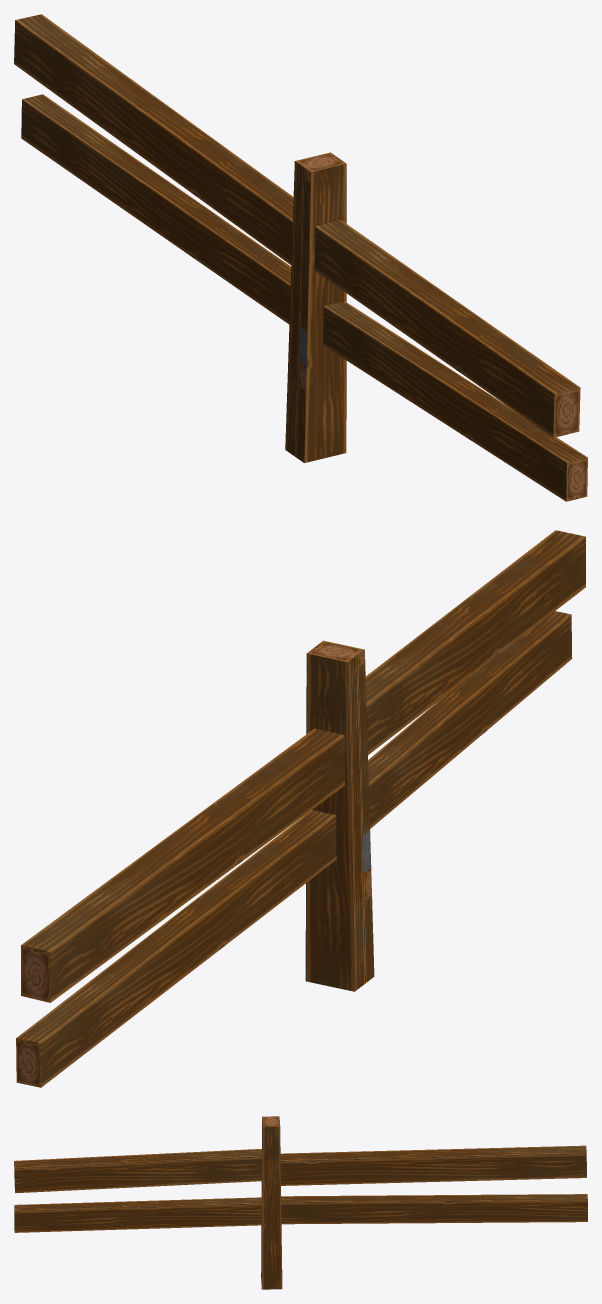
3 renders of one model, top to bottom at view 1: azimuth 30°, elevation 25°; view 2: azimuth 150°, elevation 25°; view 3: azimuth 270°, elevation 25°, orthographic. The views are drawn at different scales.
Parts seen in each view (by area): view 1: Cube.042; view 2: Cube.042; view 3: Cube.042.
Part boxes in pixels (<box>): Cube.042: <box>14,14,587,501</box>; Cube.042: <box>16,530,585,1087</box>; Cube.042: <box>14,1116,587,1289</box>.
Bounding box in the file's own units: 34.63 × 142 × 453.
1 material, 1 textured.
